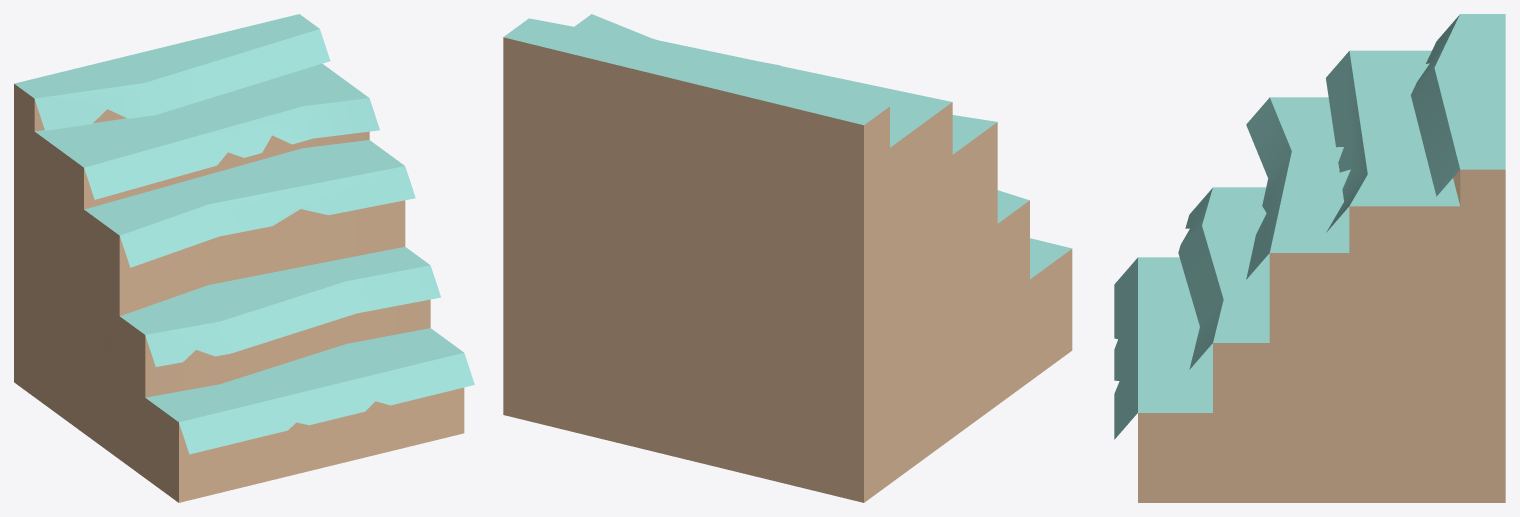
The model's file is cliffBrown_steps.glb.
3 views of the same model, side by side, from view 1: azimuth 30°, elevation 25°; view 2: azimuth 150°, elevation 25°; view 3: azimuth 270°, elevation 25° (orthographic). The views are drawn at different scales.
Parts seen in each view (by area): view 1: cliffBrown_steps; view 2: cliffBrown_steps; view 3: cliffBrown_steps.
Boxes of the visible parts, x1,y1,x2,y2 form: cliffBrown_steps: [14, 14, 474, 502]; cliffBrown_steps: [503, 14, 1072, 502]; cliffBrown_steps: [1114, 14, 1505, 502].
Size of the model in its own units: 1 by 1 by 1.06.
